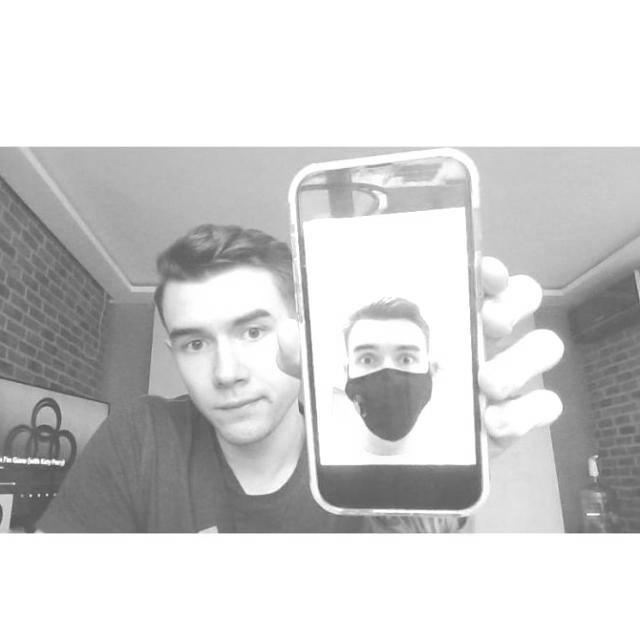fake: (292, 146, 500, 523)
real: (166, 280, 288, 448)
